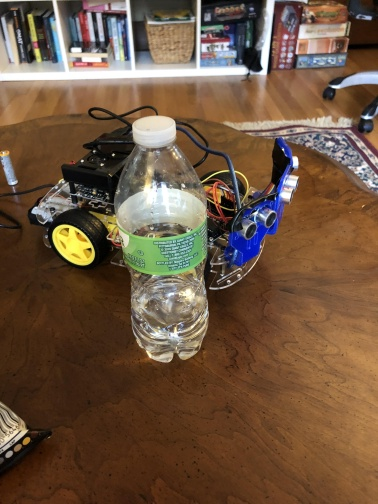battery: (1, 147, 34, 190)
bottle: (112, 113, 214, 364)
